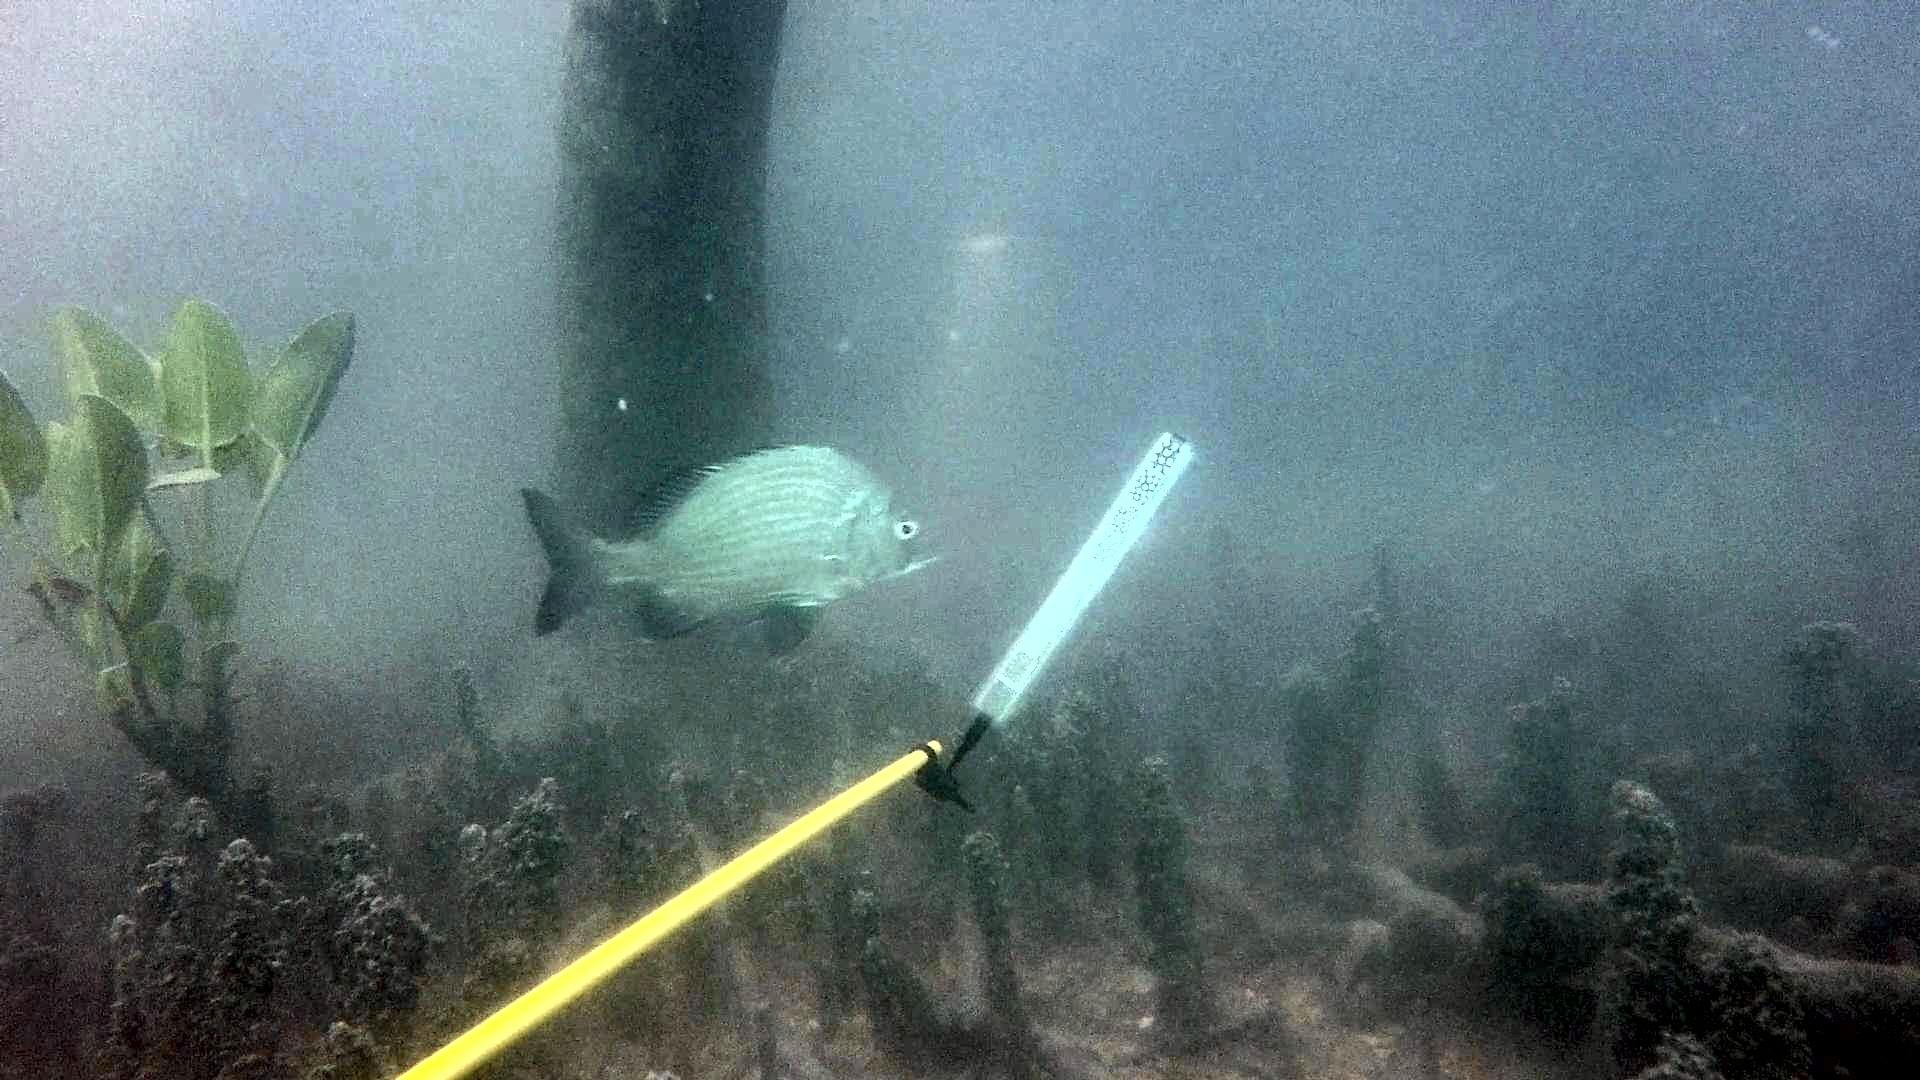acanthopagrus palmaris: (517, 438, 960, 659)
